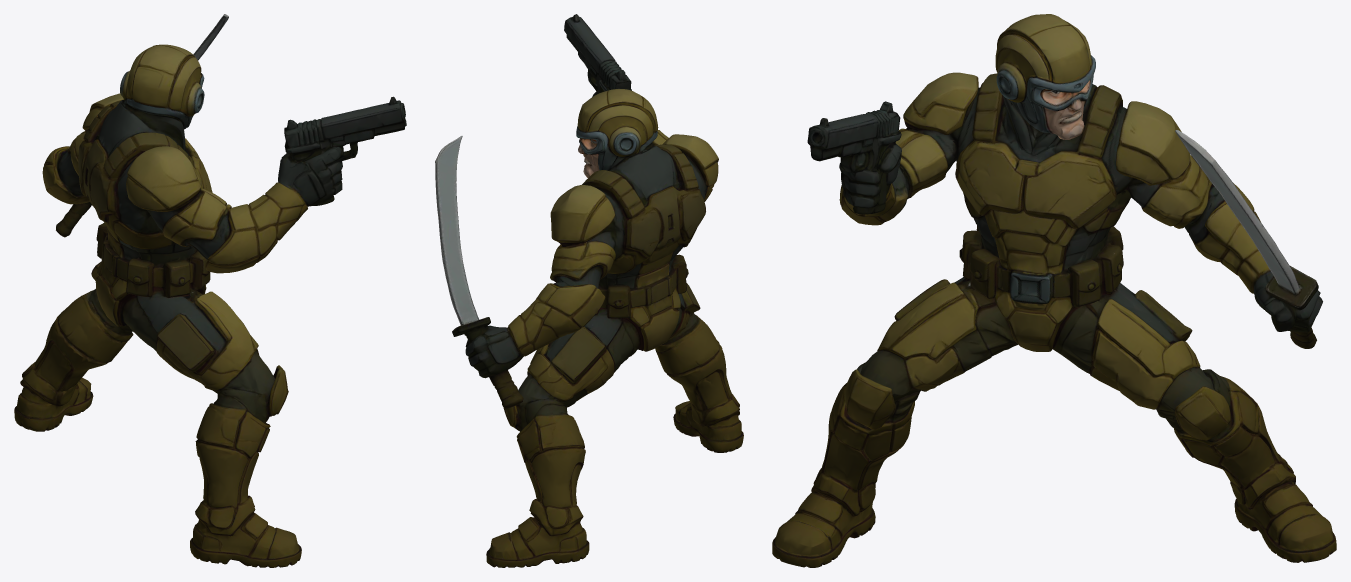
File: bountyhawk3d.glb
3 views of the same model, side by side, from view 1: azimuth 30°, elevation 25°; view 2: azimuth 150°, elevation 25°; view 3: azimuth 270°, elevation 25° (orthographic). The views are drawn at different scales.
Visible parts, largest first — view 1: tripo_node_f5b79ebe-6bfa-4aac-8bf3-b73bdc46d8c1; view 2: tripo_node_f5b79ebe-6bfa-4aac-8bf3-b73bdc46d8c1; view 3: tripo_node_f5b79ebe-6bfa-4aac-8bf3-b73bdc46d8c1.
Boxes of the visible parts, x1,y1,x2,y2 form: tripo_node_f5b79ebe-6bfa-4aac-8bf3-b73bdc46d8c1: (14, 14, 406, 567); tripo_node_f5b79ebe-6bfa-4aac-8bf3-b73bdc46d8c1: (435, 14, 743, 567); tripo_node_f5b79ebe-6bfa-4aac-8bf3-b73bdc46d8c1: (772, 14, 1336, 567).
Size of the model in its own units: 0.5374 by 1 by 0.9666.
Materials: 1 (1 with a texture image).
